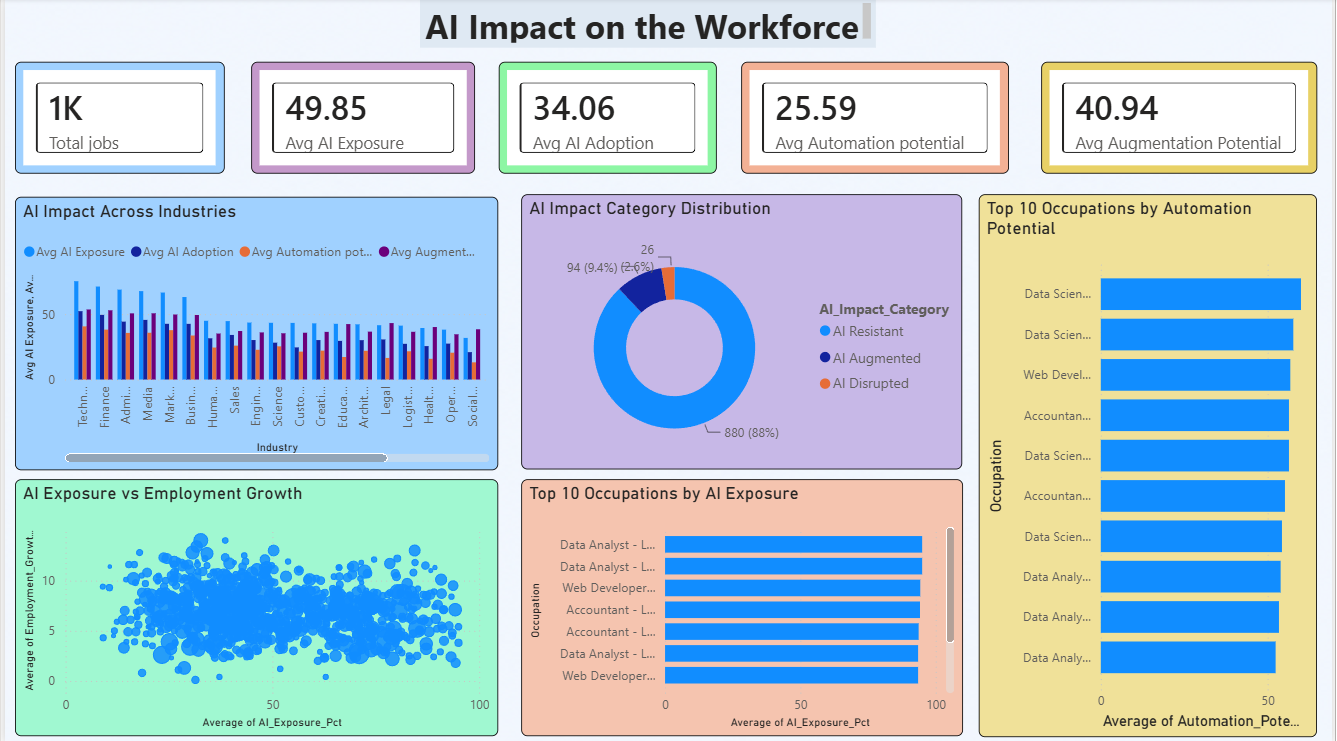

This screenshot's page, from the dashboard's own definition file:
{"tool":"powerbi","page":{"name":"Executive Overview","canvas":[1280,720],"ordinal":0},"visuals":[{"type":"cardVisual","fields":{"Data":["AI_Impact_on_Jobs_Dataset.Total jobs"]},"box":[10,62,202,108],"z":0},{"type":"cardVisual","fields":{"Data":["AI_Impact_on_Jobs_Dataset.Avg AI Exposure"]},"box":[238,62,216,108],"z":1000},{"type":"cardVisual","fields":{"Data":["AI_Impact_on_Jobs_Dataset.Avg AI Adoption"]},"box":[476,62,210,108],"z":2000},{"type":"cardVisual","fields":{"Data":["AI_Impact_on_Jobs_Dataset.Avg Automation potential"]},"box":[710,62,258,108],"z":3000},{"type":"cardVisual","fields":{"Data":["AI_Impact_on_Jobs_Dataset.Avg Augmentation Potential"]},"box":[1000,62,266,108],"z":4000},{"type":"clusteredColumnChart","title":"AI Impact Across Industries","fields":{"Category":["AI_Impact_on_Jobs_Dataset.Industry"],"Y":["AI_Impact_on_Jobs_Dataset.Avg AI Exposure","AI_Impact_on_Jobs_Dataset.Avg AI Adoption","AI_Impact_on_Jobs_Dataset.Avg Automation potential","AI_Impact_on_Jobs_Dataset.Avg Augmentation Potential"]},"box":[10,192,466,264],"z":5000},{"type":"donutChart","title":"AI Impact Category Distribution","fields":{"Category":["AI_Impact_on_Jobs_Dataset.AI_Impact_Category"],"Y":["CountNonNull(AI_Impact_on_Jobs_Dataset.Occupation_ID)"]},"box":[498,190,425.7,265.7],"z":6000},{"type":"scatterChart","title":"AI Exposure vs Employment Growth","fields":{"Category":["AI_Impact_on_Jobs_Dataset.Occupation_ID"],"Size":["Sum(AI_Impact_on_Jobs_Dataset.Employment_2024)"],"X":["Avg(AI_Impact_on_Jobs_Dataset.AI_Exposure_Pct)"],"Y":["Avg(AI_Impact_on_Jobs_Dataset.Employment_Growth_Pct)"]},"box":[10,464,466,248],"z":7000},{"type":"clusteredBarChart","title":"Top 10 Occupations by AI Exposure","fields":{"Category":["AI_Impact_on_Jobs_Dataset.Occupation"],"Y":["Avg(AI_Impact_on_Jobs_Dataset.AI_Exposure_Pct)"]},"box":[498,464,426,248],"z":8000},{"type":"clusteredBarChart","title":"Top 10 Occupations by Automation Potential","fields":{"Category":["AI_Impact_on_Jobs_Dataset.Occupation"],"Y":["Avg(AI_Impact_on_Jobs_Dataset.Automation_Potential_Pct)"]},"box":[940,190,326,524],"z":9000},{"type":"textbox","box":[400,0,440,48],"z":10000}]}

Visuals, with their boxes in screenshot pixels (x1, y1, x2, y2), scaled from the page's 1280x720 canvas onto the 1337x741 screenshot:
cardVisual - AI_Impact_on_Jobs_Dataset.Total jobs: BBox(10, 64, 221, 175)
cardVisual - AI_Impact_on_Jobs_Dataset.Avg AI Exposure: BBox(249, 64, 474, 175)
cardVisual - AI_Impact_on_Jobs_Dataset.Avg AI Adoption: BBox(497, 64, 717, 175)
cardVisual - AI_Impact_on_Jobs_Dataset.Avg Automation potential: BBox(742, 64, 1011, 175)
cardVisual - AI_Impact_on_Jobs_Dataset.Avg Augmentation Potential: BBox(1045, 64, 1322, 175)
"AI Impact Across Industries" clusteredColumnChart: BBox(10, 198, 497, 469)
"AI Impact Category Distribution" donutChart: BBox(520, 196, 965, 469)
"AI Exposure vs Employment Growth" scatterChart: BBox(10, 478, 497, 733)
"Top 10 Occupations by AI Exposure" clusteredBarChart: BBox(520, 478, 965, 733)
"Top 10 Occupations by Automation Potential" clusteredBarChart: BBox(982, 196, 1322, 735)
textbox: BBox(418, 0, 877, 49)
